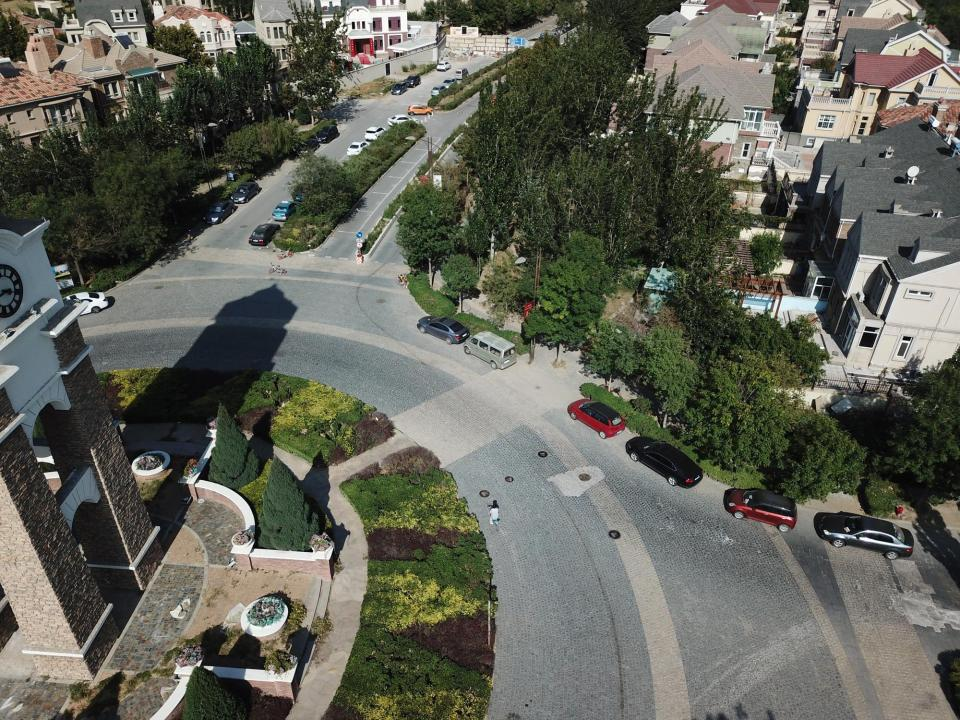car: (818, 510, 916, 560), (625, 436, 705, 491), (725, 487, 798, 533), (565, 397, 625, 439), (414, 314, 470, 346), (58, 292, 112, 316), (203, 200, 236, 224), (249, 222, 280, 246), (229, 182, 259, 204), (270, 201, 300, 221), (294, 138, 318, 156), (346, 140, 371, 157), (386, 114, 418, 127), (316, 125, 339, 143), (407, 103, 433, 115), (364, 126, 386, 139), (405, 74, 421, 87), (391, 83, 408, 95), (430, 85, 446, 96), (443, 77, 457, 88), (437, 61, 451, 71)
van: (461, 331, 521, 368), (454, 68, 470, 78)
